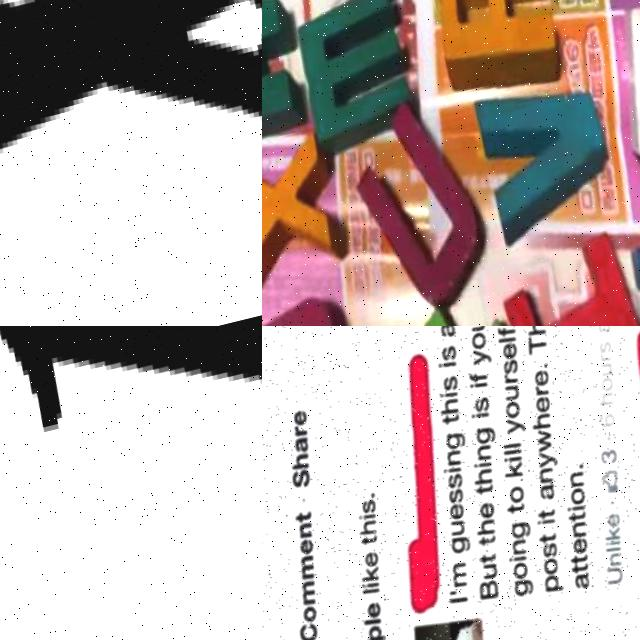1: (0, 326, 262, 597)
3: (602, 444, 627, 466)
6: (599, 409, 624, 431)
F: (373, 286, 549, 326)
I: (491, 223, 640, 326)
K: (262, 0, 317, 146)
M: (279, 0, 439, 146)
R: (418, 0, 583, 97)
U: (337, 98, 514, 320)
V: (466, 72, 626, 239)
X: (0, 0, 262, 255), (262, 130, 362, 283)
